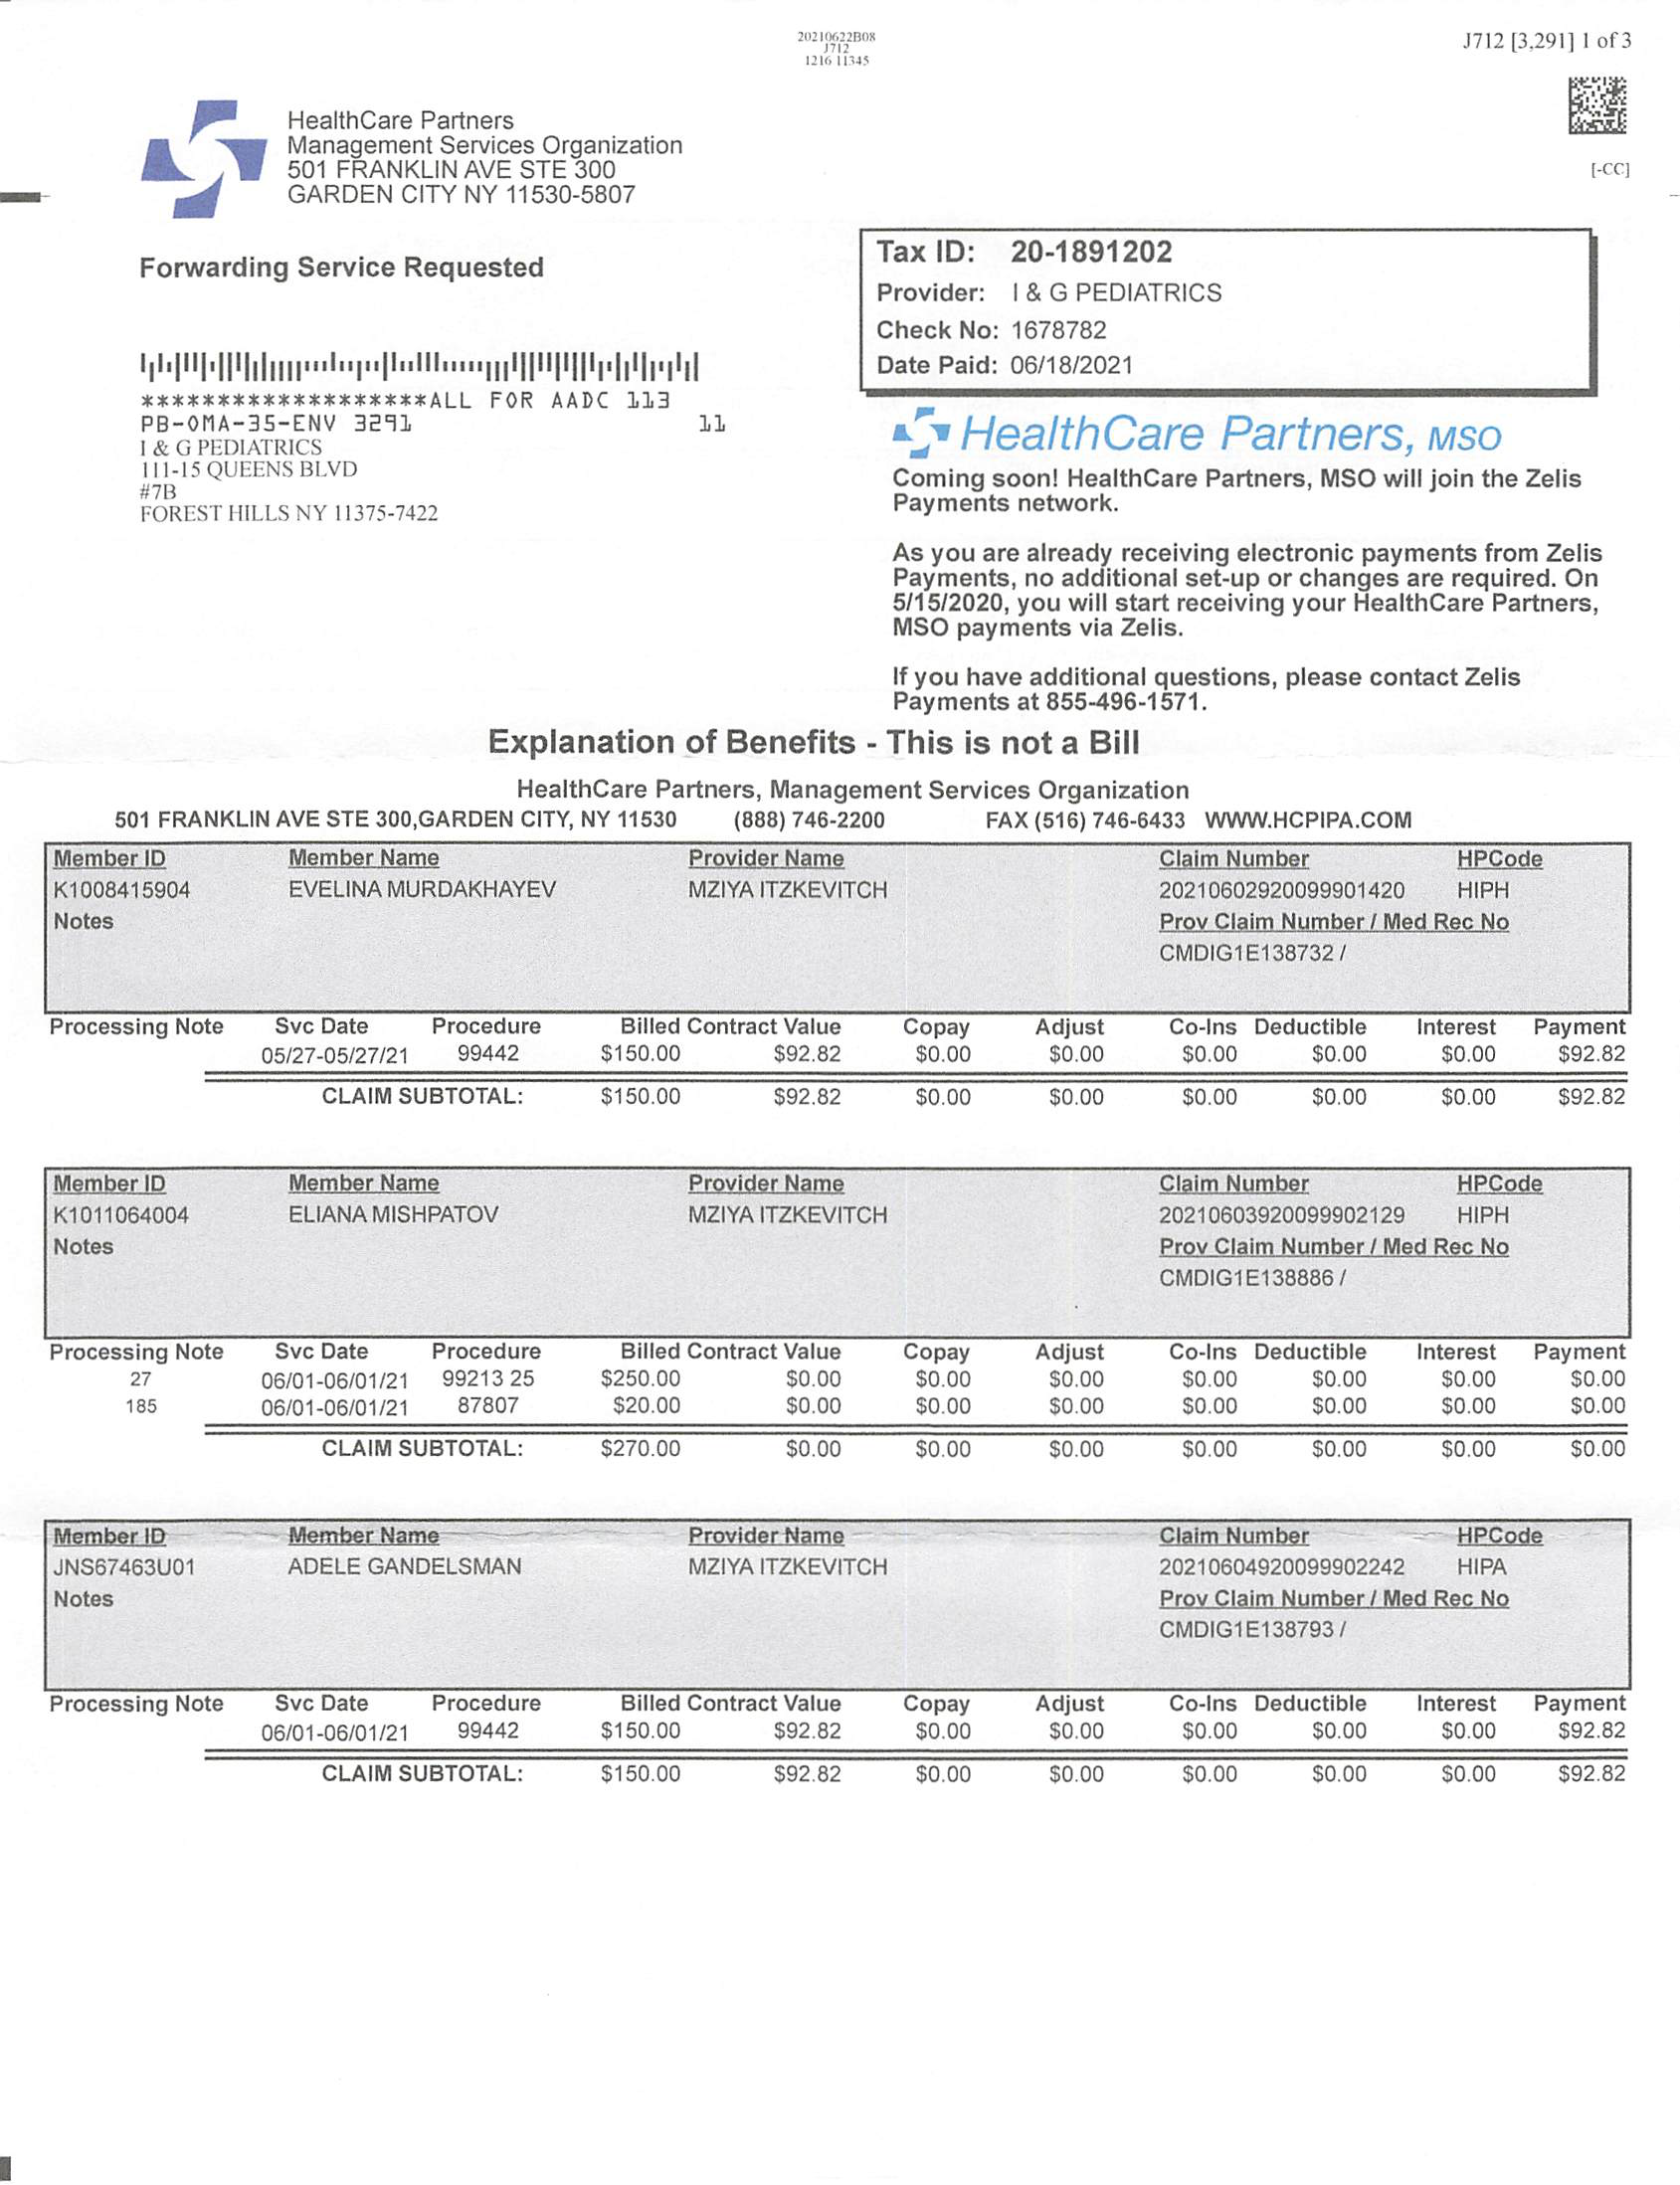data: (28, 1158, 1650, 1345), (37, 831, 1643, 987), (28, 1505, 1648, 1656), (845, 217, 1613, 411)
table: (42, 1334, 1634, 1479), (44, 1671, 1648, 1806), (42, 1011, 1645, 1130)
